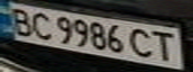6: (106, 22, 130, 55)
8: (87, 20, 109, 52)
9: (51, 14, 75, 45), (69, 17, 90, 48)
B: (3, 4, 36, 36)
C: (127, 26, 157, 60), (27, 10, 57, 40)
T: (148, 29, 181, 63)
